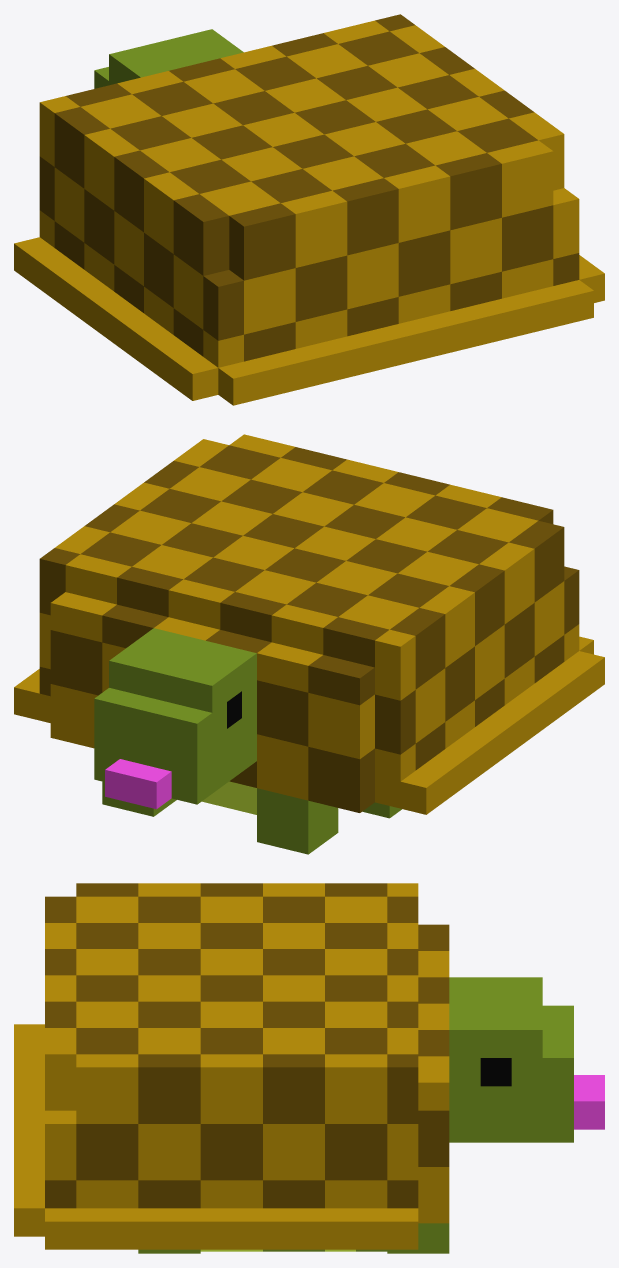
File: BigMamaTurtle.obj
3 renders of one model, top to bottom at view 1: azimuth 30°, elevation 25°; view 2: azimuth 150°, elevation 25°; view 3: azimuth 270°, elevation 25°, orthographic. The views are drawn at different scales.
Bounding box in the file's own units: 16 × 8 × 19.
1 material, 1 textured.
